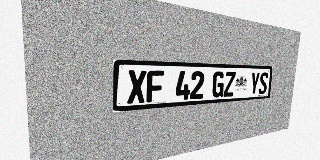2: (190, 71, 205, 99)
4: (175, 71, 191, 100)
F: (146, 70, 164, 102)
G: (212, 71, 225, 98)
S: (258, 72, 268, 94)
X: (127, 70, 146, 104)
Y: (249, 72, 260, 95)
Z: (223, 72, 236, 97)
